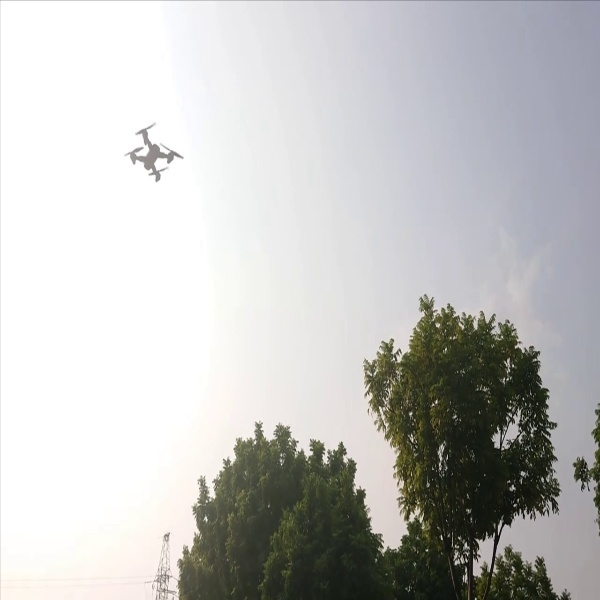drone: (119, 120, 189, 188)
